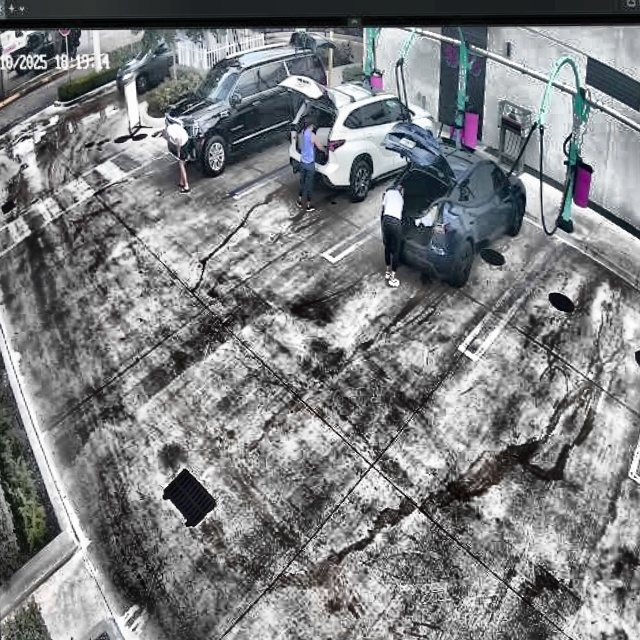Car: (379, 128, 528, 287), (160, 47, 331, 174), (282, 73, 439, 198)
